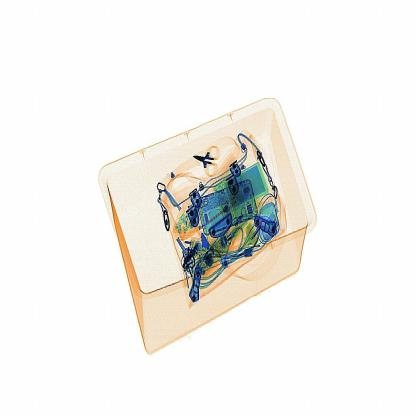gun: (189, 143, 228, 186)
